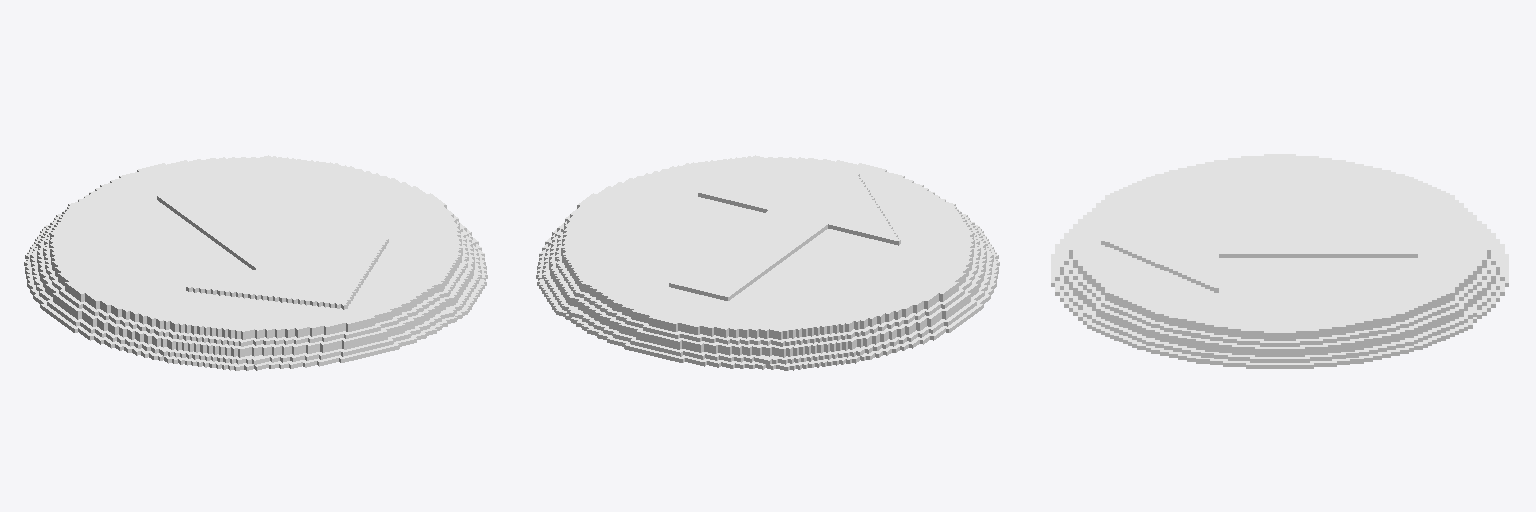
File: Button-Arrow.obj
3 renders of one model, left to right at view 1: azimuth 30°, elevation 25°; view 2: azimuth 150°, elevation 25°; view 3: azimuth 270°, elevation 25°, orthographic.
Size of the model in its own units: 101 by 8 by 101.